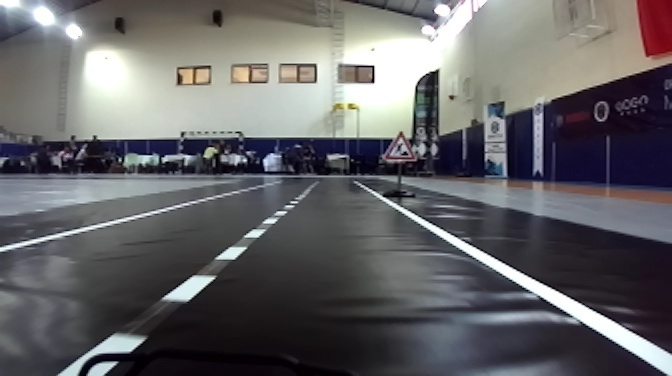yol_yapimi: (380, 125, 416, 162)
